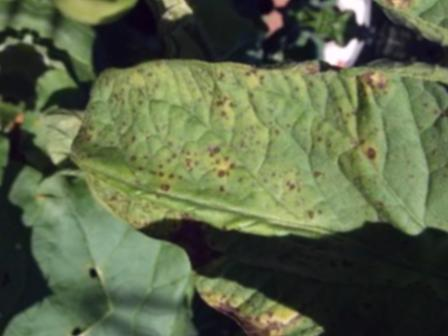Tomato Early blight leaf: (24, 0, 448, 336)
